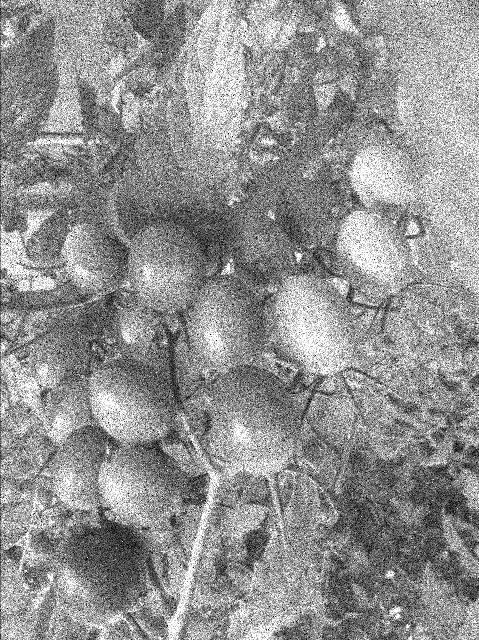l_fully_ripened: (52, 526, 140, 627), (318, 511, 348, 551), (316, 487, 341, 527)
l_green: (337, 211, 413, 300), (351, 145, 423, 220), (230, 212, 294, 294), (62, 222, 126, 297), (274, 176, 334, 254), (136, 346, 192, 425), (28, 320, 90, 390), (44, 379, 101, 447), (186, 202, 236, 279), (113, 291, 164, 360), (107, 174, 135, 251), (342, 121, 390, 165), (361, 78, 397, 124), (35, 483, 53, 511), (18, 478, 36, 501), (5, 478, 20, 498), (0, 486, 13, 505)
l_half_ripened: (212, 364, 300, 475), (273, 274, 360, 377), (89, 358, 177, 447), (190, 275, 267, 373), (128, 218, 208, 312), (99, 446, 187, 528), (52, 426, 121, 510), (26, 532, 51, 563), (45, 510, 68, 534)
